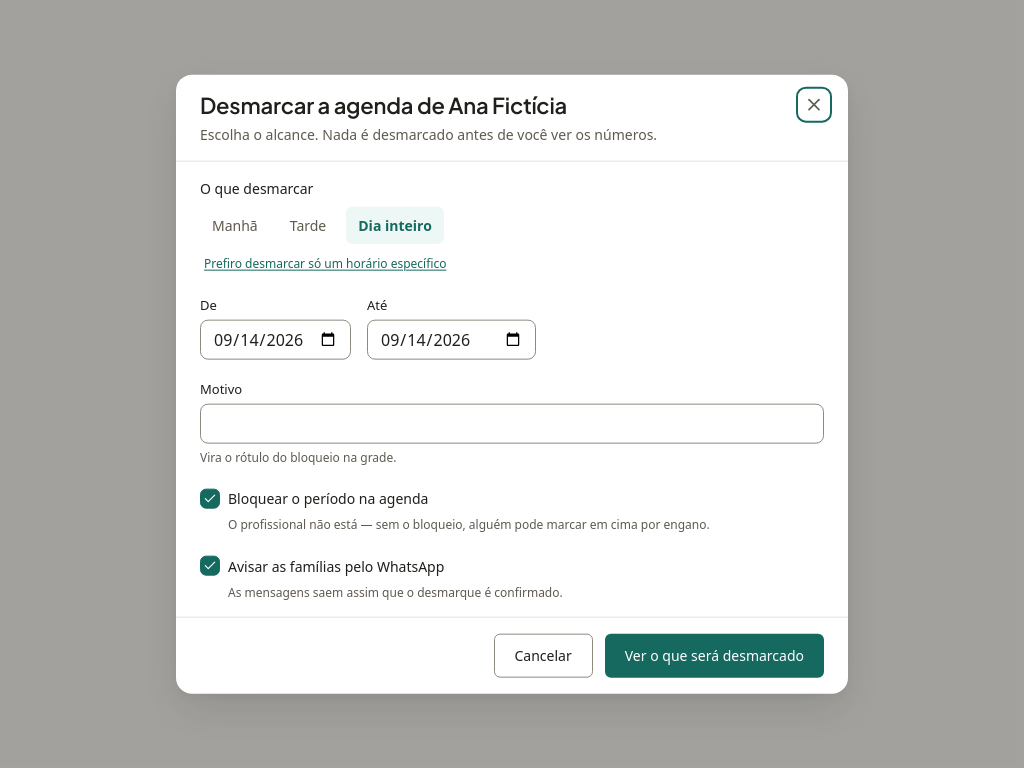
it: DesmarqueEmLote — a proteção é toda antes do clique › deve mostrar o resultado separando desmarcados, recusados e não-avisados
Click the button "Ver o que será desmarcado": (714, 655) left=605, top=633, right=824, bottom=677
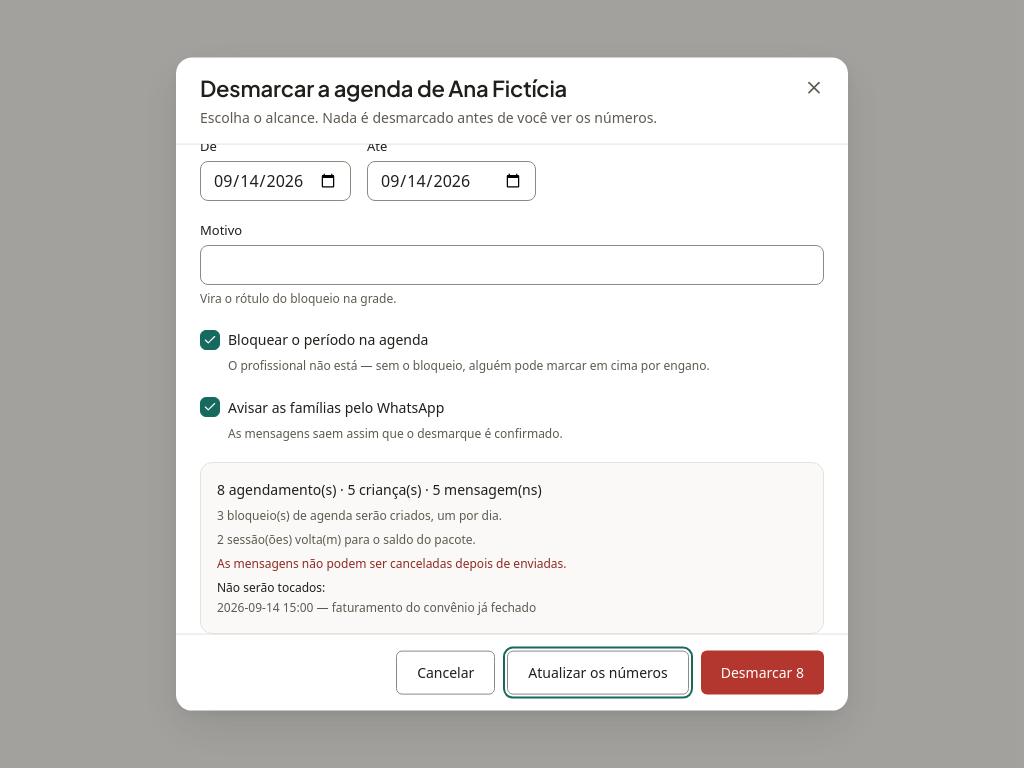
Click the button "Desmarcar 8": (762, 672) left=701, top=650, right=824, bottom=694
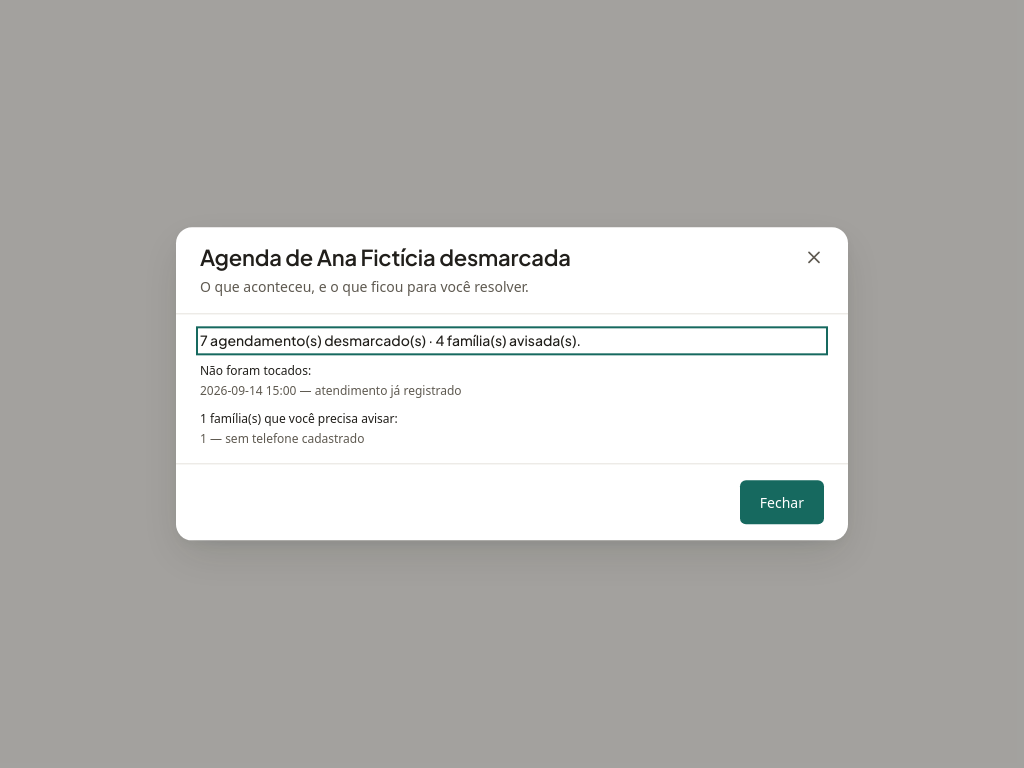
Result: the heading "7 agendamento(s) desmarcado(s) · 4 família(s) avisada(s)." is shown at left=200, top=331, right=581, bottom=349
Result: the list item "2026-09-14 15:00 — atendimento já registrado" is shown at left=200, top=382, right=462, bottom=399
Result: the list item "1 — sem telefone cadastrado" is shown at left=200, top=430, right=364, bottom=448
